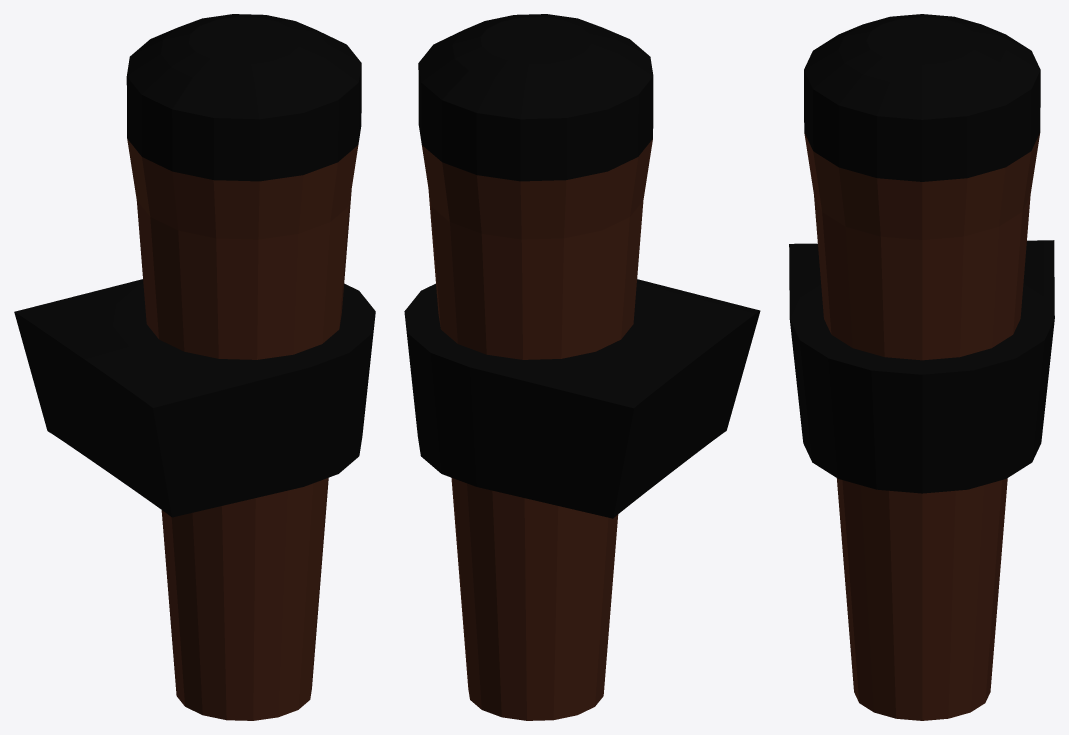
The model's file is Torch.glb.
The picture shows the model from 3 angles, left to right: view 1: azimuth 30°, elevation 25°; view 2: azimuth 150°, elevation 25°; view 3: azimuth 270°, elevation 25°; orthographic projection.
Visible parts, largest first — view 1: Cylinder; view 2: Cylinder; view 3: Cylinder.
Boxes of the visible parts, bbox=[...] form: Cylinder: bbox=[14, 14, 375, 720]; Cylinder: bbox=[404, 14, 760, 720]; Cylinder: bbox=[789, 14, 1054, 720].
Size of the model in its own units: 0.7033 by 1.57 by 0.5805.
